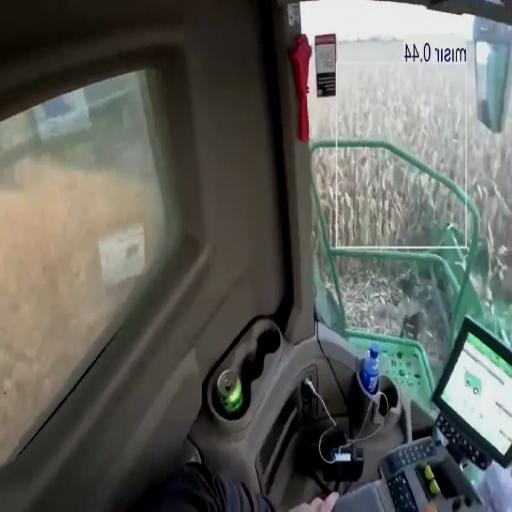misir: (309, 0, 512, 401), (1, 77, 161, 449)
